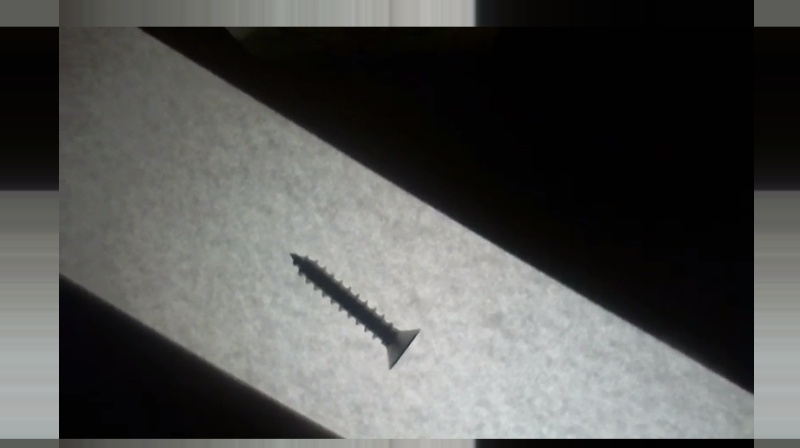S001: (286, 250, 423, 374)
